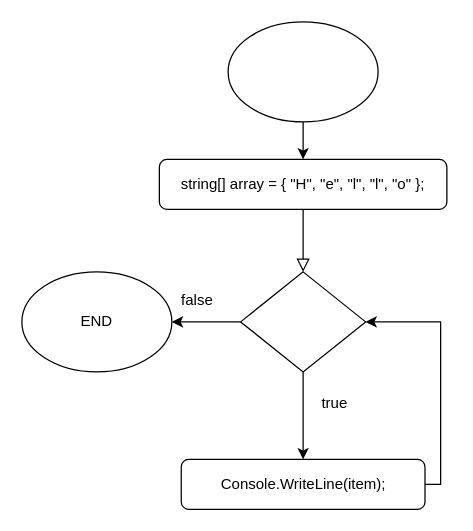
This 473x531 diagram has some shape labels left out. The shapes that lost their labels are listed below. From the top down, each one's centre as x and y in pixels, then its label:
At point 302,71: "START".
At point 302,321: "foreach (string item in array)".
